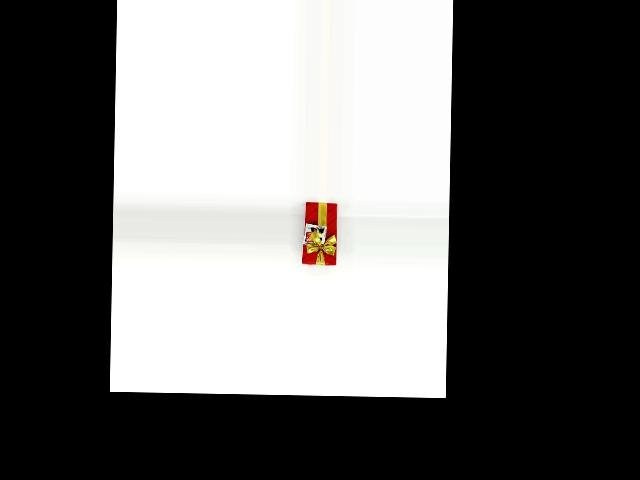chocolate: (302, 202, 340, 267)
